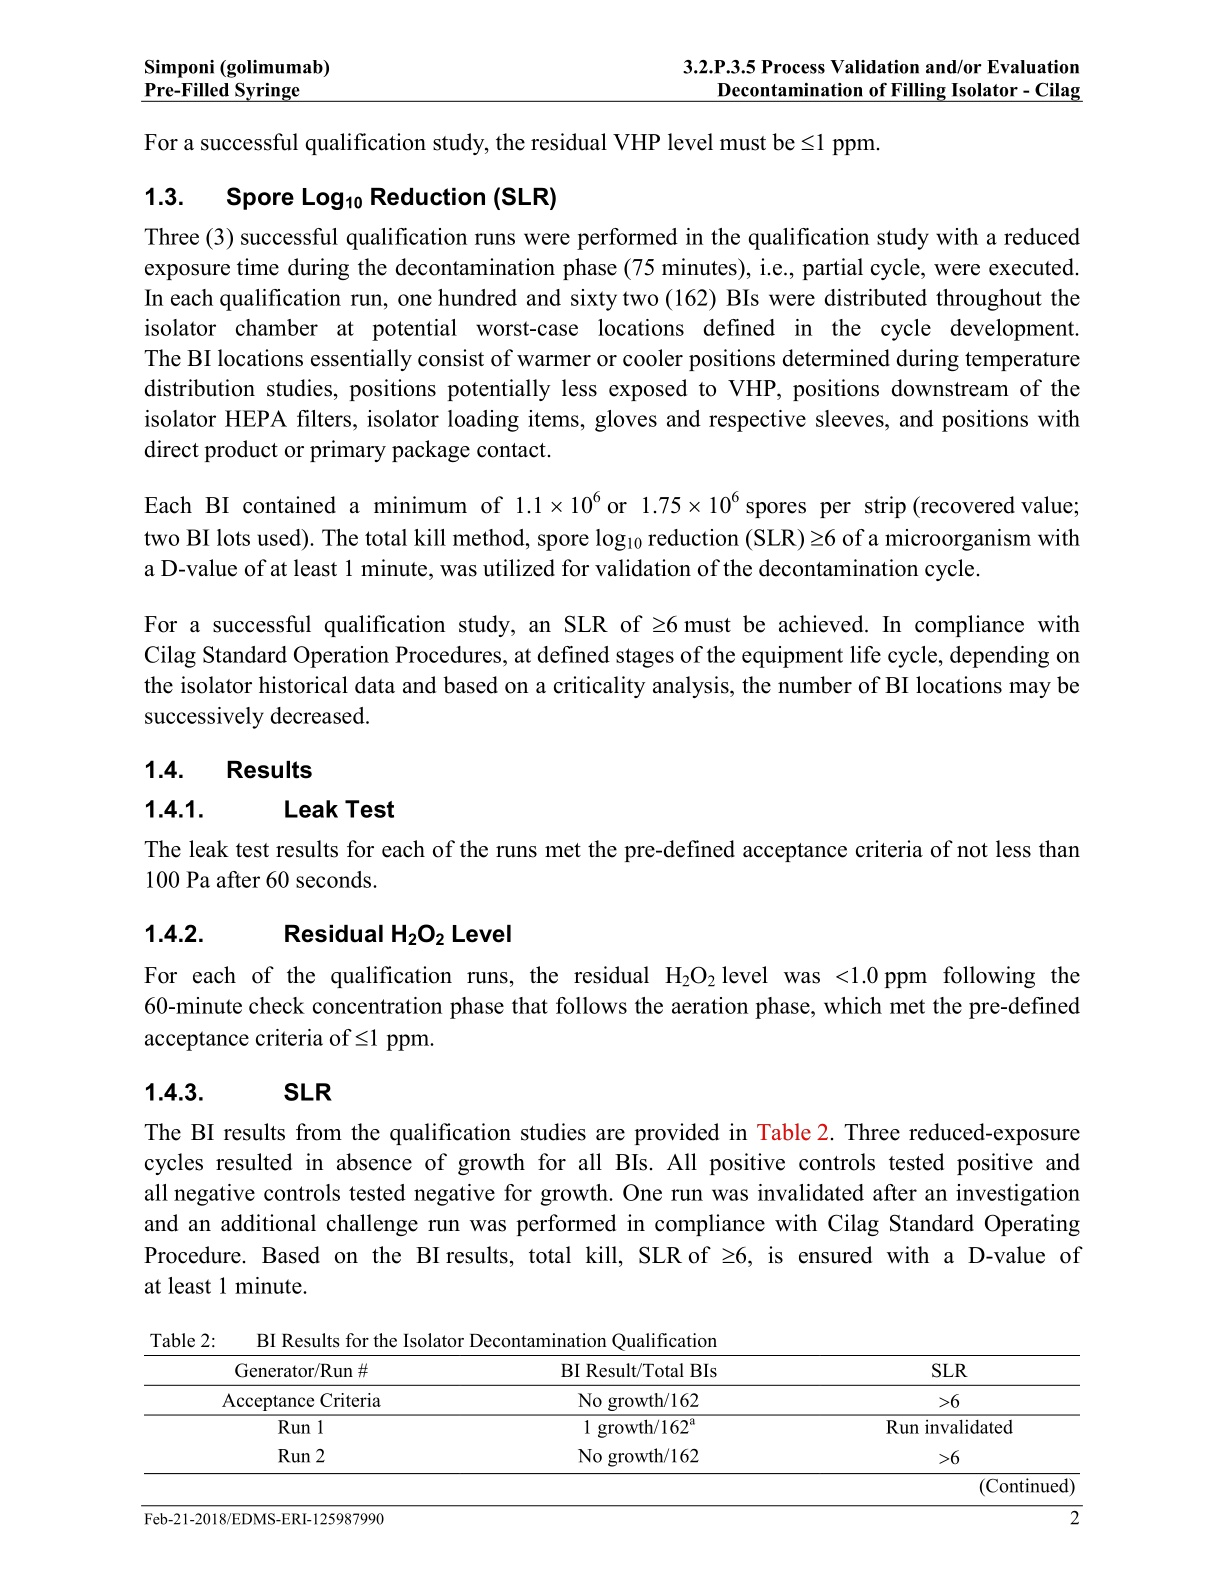partial_lined: (144, 1354, 1077, 1475)
